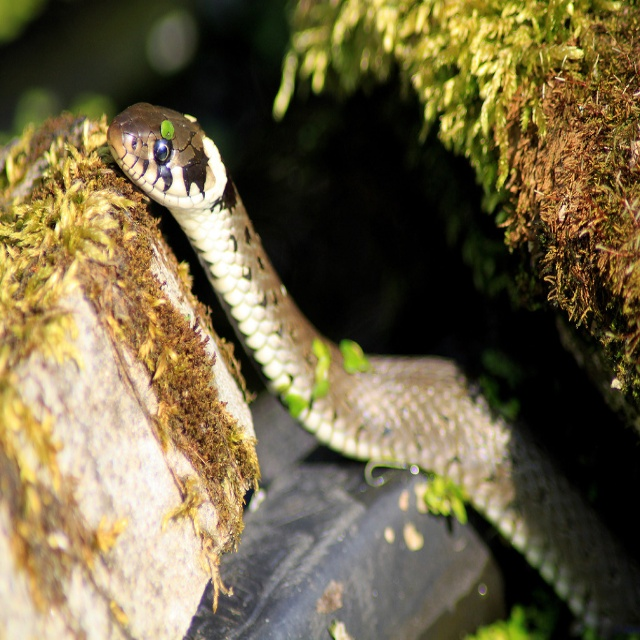Snake: (108, 102, 635, 639)
